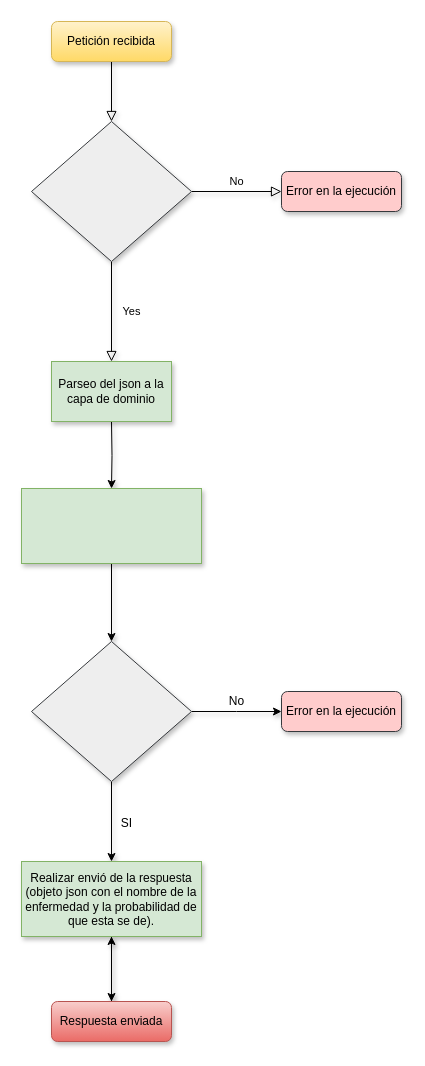
This 425x1066 diagram has some shape labels left out. The shapes that lost their labels are listed below. From the top down, each one's centre as x and y in pixels, then its label:
At (112,192): "¿El request posee una estructura válida?".
At (112,527): "Procesamiento de la señal con el modelo previamente entrenado".
At (112,712): "¿Es posible realizar el envío de la respuesta a la Raspberry?".
